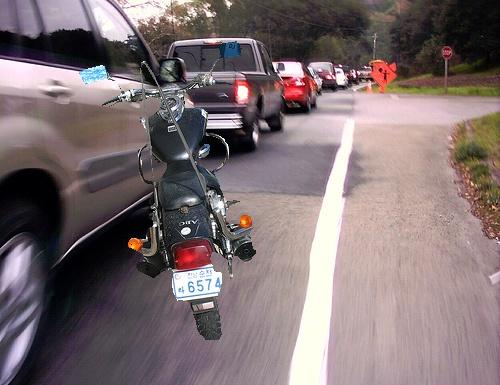tampered: (80, 42, 256, 340)
